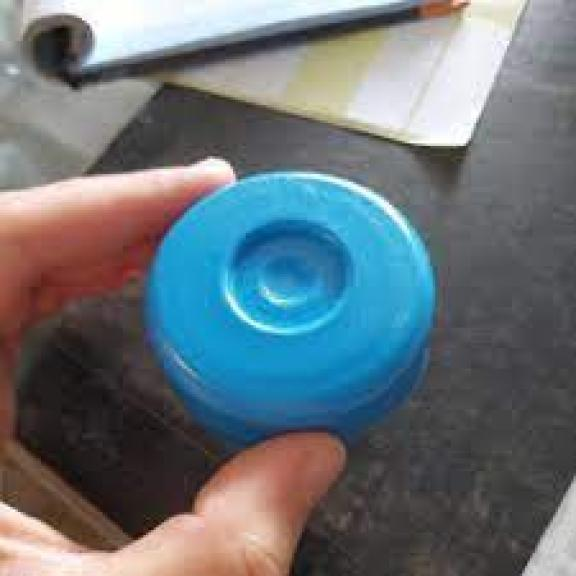Plastik: (143, 172, 438, 458)
